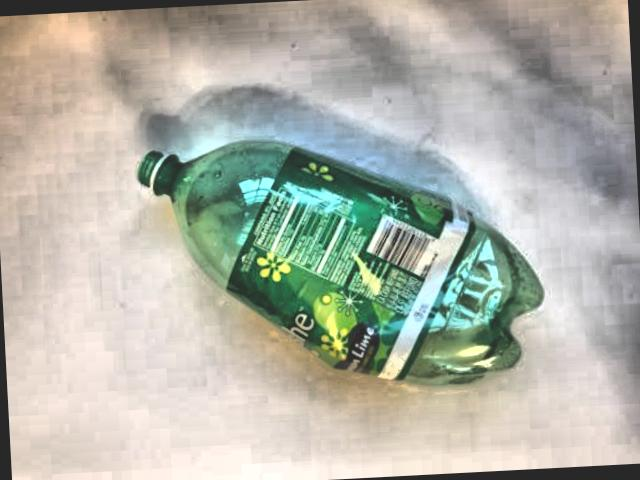Bottles: (116, 99, 570, 416)
